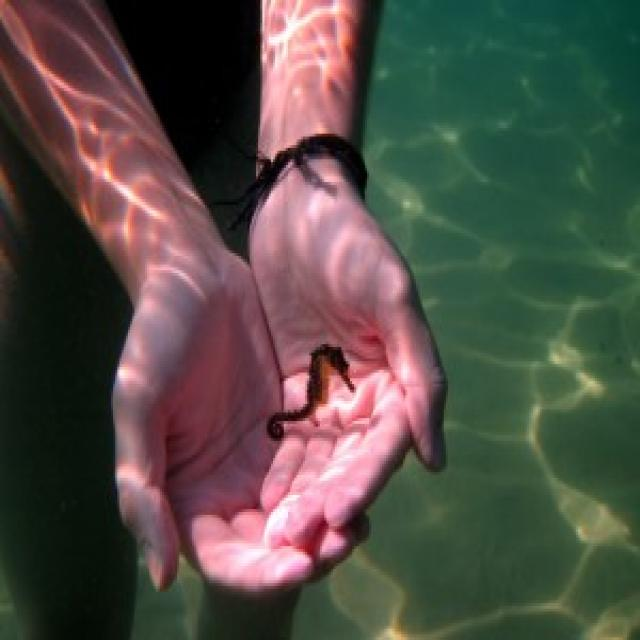Seahorse: (263, 339, 360, 441)
